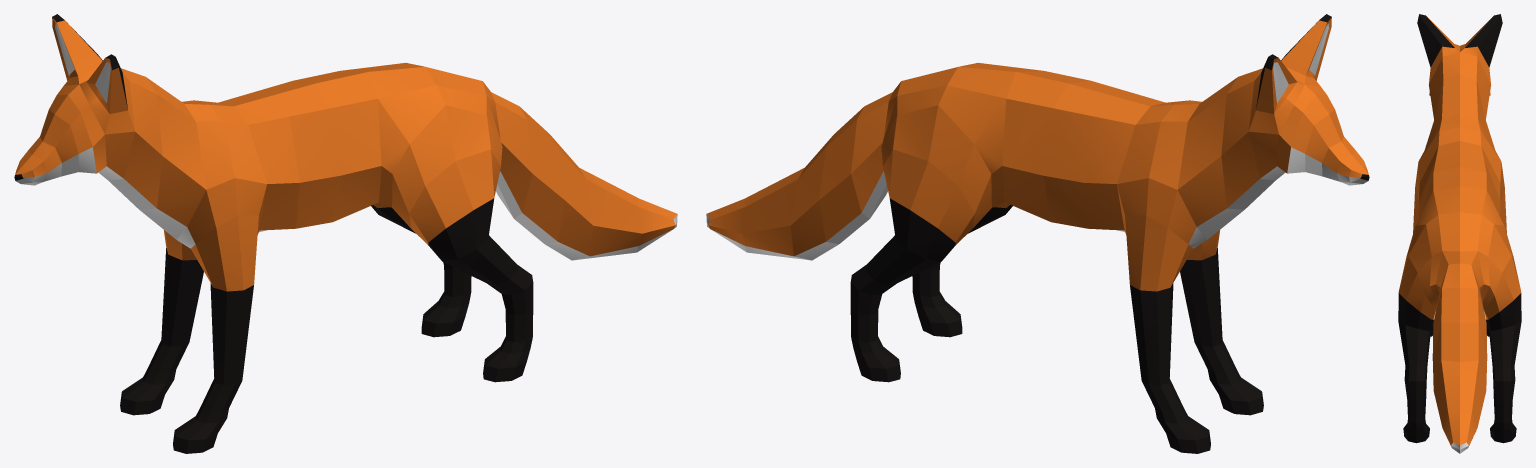
Rendered from fox.glb.
3 renders of one model, left to right at view 1: azimuth 30°, elevation 25°; view 2: azimuth 150°, elevation 25°; view 3: azimuth 270°, elevation 25°, orthographic. The views are drawn at different scales.
Visible parts, largest first — view 1: org_fox; view 2: org_fox; view 3: org_fox.
Part boxes in pixels (x1=…): org_fox: x1=14, y1=14, x2=677, y2=453; org_fox: x1=706, y1=14, x2=1369, y2=453; org_fox: x1=1398, y1=14, x2=1521, y2=453.
Size of the model in its own units: 0.9295 by 0.55 by 0.2121.
Materials: 1 (1 with a texture image).
